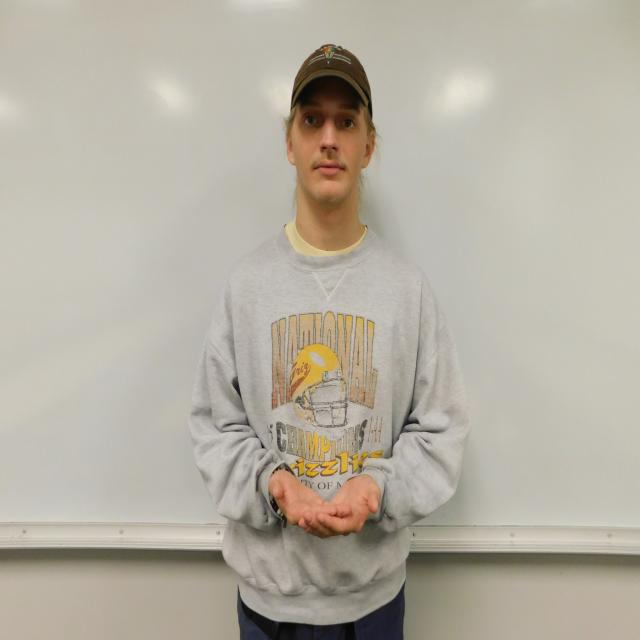good: (268, 470, 382, 538)
